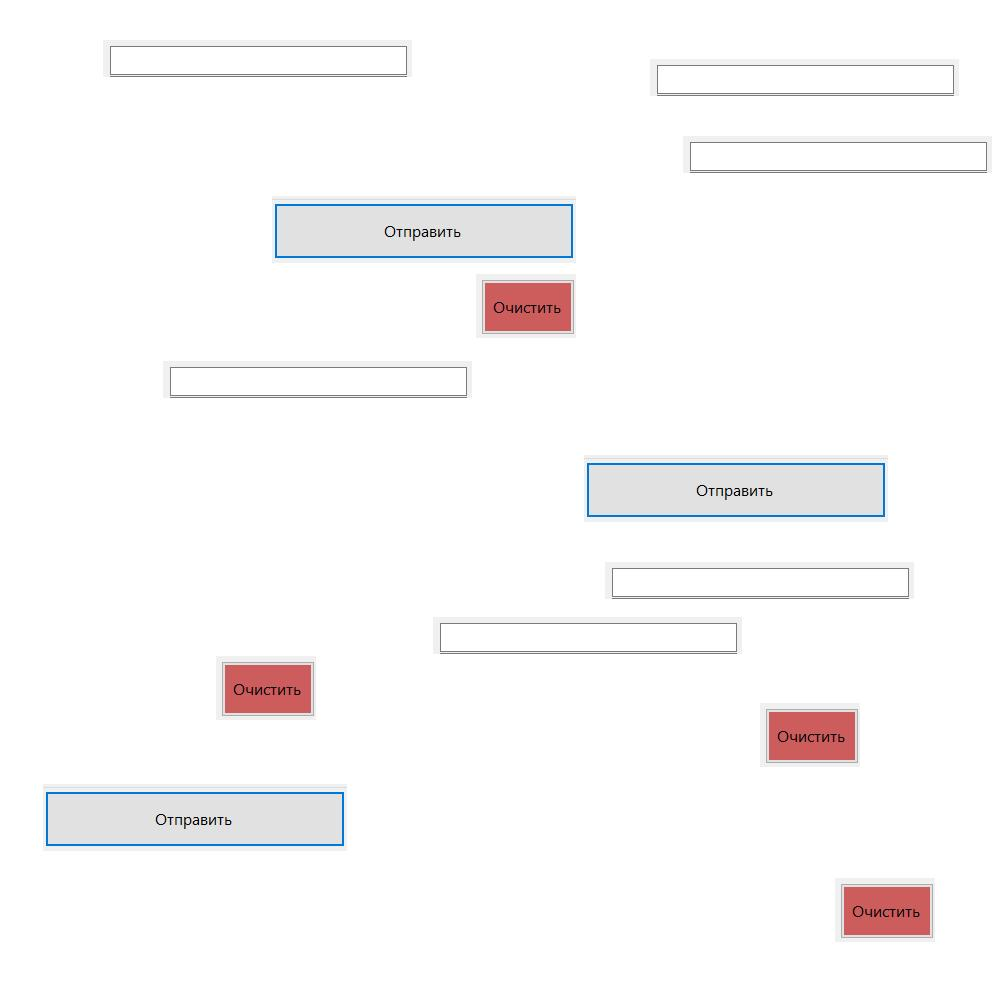Button: (272, 196, 576, 263), (43, 784, 347, 851), (584, 455, 888, 522), (216, 656, 316, 720), (476, 274, 576, 338), (760, 703, 860, 767), (835, 878, 935, 942)
EditText-: (605, 562, 914, 599), (433, 617, 742, 654), (103, 40, 412, 77), (650, 59, 959, 96), (163, 361, 472, 398), (683, 136, 992, 173)
